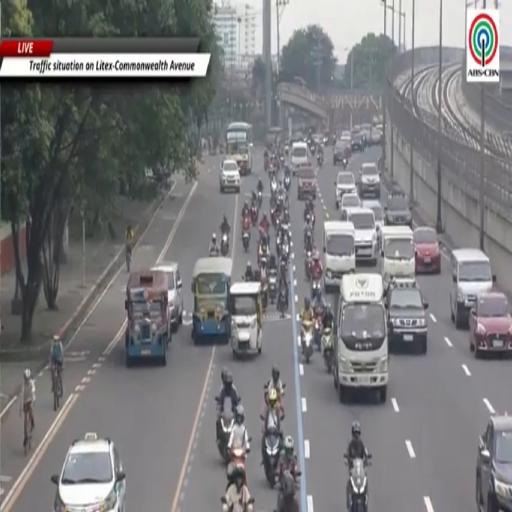bus: (226, 122, 253, 175)
car: (51, 432, 125, 511), (476, 414, 511, 511), (387, 279, 428, 354), (469, 292, 511, 358), (152, 262, 183, 331), (342, 206, 378, 265), (414, 227, 441, 274), (385, 191, 412, 228), (363, 200, 383, 248), (335, 171, 356, 209), (219, 159, 240, 193), (359, 164, 380, 198), (298, 166, 316, 200), (291, 142, 308, 175), (340, 192, 361, 211), (334, 141, 348, 166), (360, 124, 371, 147), (351, 133, 364, 152), (370, 127, 382, 146), (340, 131, 351, 139)
jeepney: (125, 270, 171, 366), (192, 258, 232, 344), (230, 282, 263, 357)
motorcycle: (344, 455, 371, 511), (218, 398, 234, 463), (264, 429, 281, 488), (275, 471, 299, 511), (301, 320, 313, 363), (322, 328, 333, 373), (221, 496, 254, 511), (230, 447, 249, 469), (314, 309, 323, 350), (268, 269, 277, 303), (278, 286, 287, 317), (241, 211, 251, 235), (261, 279, 268, 311), (304, 226, 314, 247), (305, 251, 312, 280), (311, 279, 321, 299), (221, 233, 229, 257), (258, 246, 267, 267), (281, 239, 289, 261), (271, 207, 278, 229), (251, 205, 258, 227), (243, 231, 250, 252), (280, 259, 288, 276), (274, 214, 281, 231), (271, 178, 277, 197), (257, 190, 263, 208), (277, 190, 284, 205), (284, 174, 290, 191), (282, 222, 290, 234), (310, 211, 315, 230), (317, 153, 323, 167), (209, 249, 218, 257), (342, 158, 348, 169), (280, 155, 284, 166), (285, 146, 289, 155)
truck: (333, 274, 389, 403), (324, 221, 355, 292)
